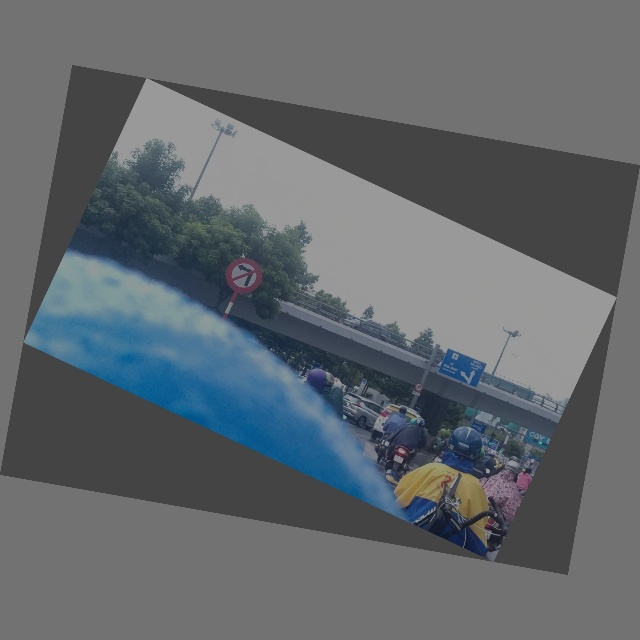P.123b: (218, 250, 269, 301)
P.124b1: (413, 381, 425, 394)
